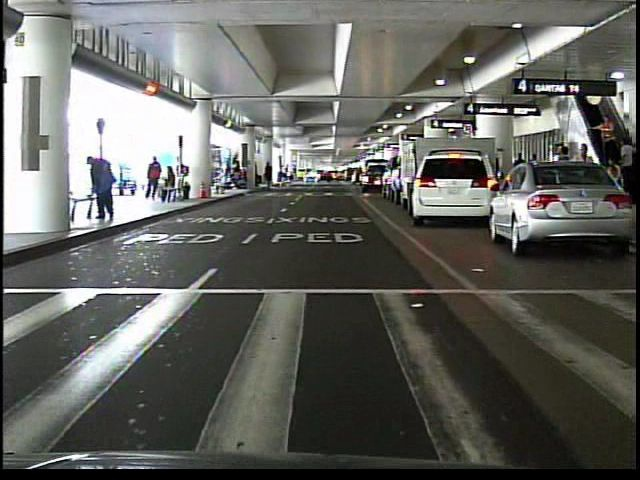person: (85, 151, 120, 225), (591, 113, 618, 165), (615, 136, 635, 191), (214, 166, 230, 200), (278, 162, 292, 191)
